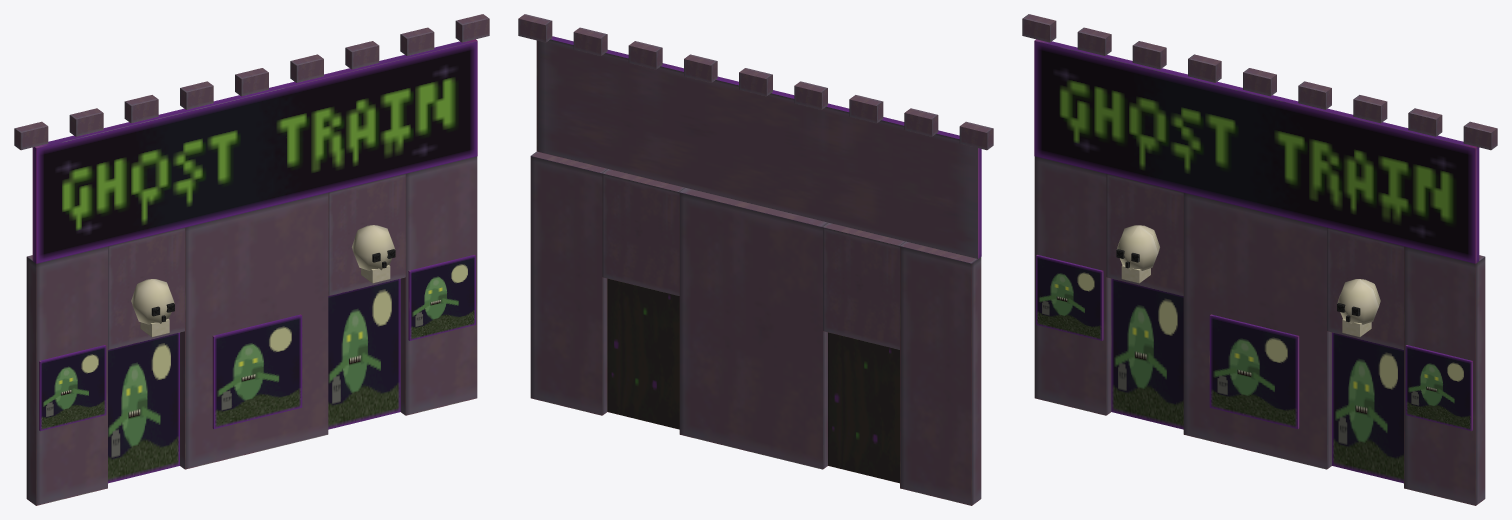
Rendered from ghost_train_front.obj.
3 renders of one model, left to right at view 1: azimuth 30°, elevation 25°; view 2: azimuth 150°, elevation 25°; view 3: azimuth 330°, elevation 25°, orthographic.
Visible parts, largest first — view 1: ghost_train_front_board, ghost_train_front_middle, ghost_train_front, ghost_train_front_right, ghost_train_front_lintels, ghost_train_front_door_r, ghost_train_front_door_l; view 2: ghost_train_front_board, ghost_train_front_middle, ghost_train_front, ghost_train_front_right, ghost_train_front_lintels, ghost_train_front_door_r, ghost_train_front_door_l; view 3: ghost_train_front_board, ghost_train_front_middle, ghost_train_front_right, ghost_train_front, ghost_train_front_lintels, ghost_train_front_door_l, ghost_train_front_door_r.
Part boxes in pixels (x1,y1,x2,y2): ghost_train_front_board: (14, 14, 489, 263); ghost_train_front_middle: (180, 192, 328, 469); ghost_train_front: (26, 246, 107, 505); ghost_train_front_right: (400, 156, 477, 415); ghost_train_front_lintels: (108, 174, 405, 349); ghost_train_front_door_r: (328, 278, 400, 429); ghost_train_front_door_l: (108, 332, 179, 483); ghost_train_front_board: (518, 14, 993, 258); ghost_train_front_middle: (679, 188, 828, 469); ghost_train_front: (900, 241, 981, 505); ghost_train_front_right: (530, 151, 607, 415); ghost_train_front_lintels: (602, 169, 905, 349); ghost_train_front_door_r: (607, 278, 679, 429); ghost_train_front_door_l: (828, 332, 899, 483); ghost_train_front_board: (1022, 14, 1497, 263); ghost_train_front_middle: (1183, 192, 1331, 469); ghost_train_front_right: (1404, 246, 1485, 505); ghost_train_front: (1034, 156, 1111, 415); ghost_train_front_lintels: (1106, 174, 1403, 349); ghost_train_front_door_l: (1111, 278, 1183, 429); ghost_train_front_door_r: (1332, 332, 1403, 483).
Size of the model in its own units: 8.5 by 6.5 by 0.8645.
1 material, 1 textured.
